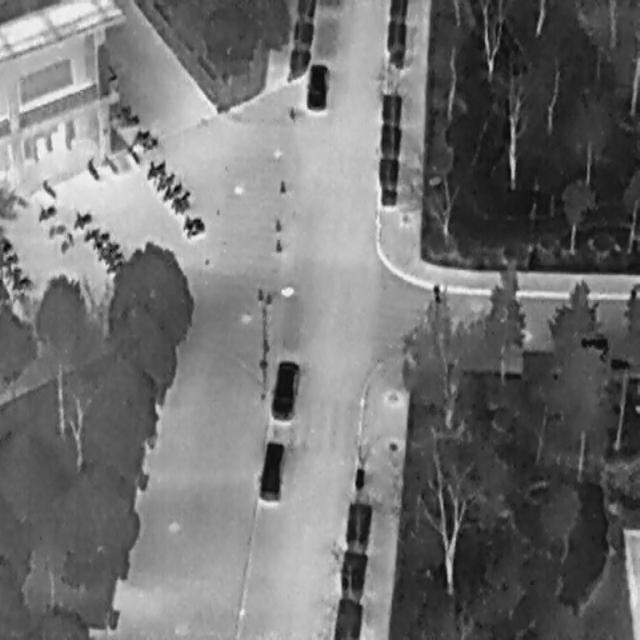Bicycle: (92, 232, 122, 266), (166, 184, 194, 216), (66, 202, 94, 234), (181, 214, 208, 244), (141, 151, 168, 180), (157, 174, 184, 202), (177, 205, 202, 234), (33, 197, 58, 225), (38, 172, 61, 202), (151, 166, 177, 192), (98, 148, 121, 176), (56, 228, 77, 258), (88, 225, 112, 251), (130, 120, 153, 146), (44, 216, 67, 242), (137, 130, 159, 155), (77, 221, 100, 244), (116, 110, 141, 131), (83, 154, 102, 181), (10, 270, 32, 290), (103, 246, 125, 266), (103, 257, 125, 275), (112, 101, 133, 119), (3, 248, 19, 266), (0, 235, 14, 254)
Car: (266, 355, 301, 424), (254, 435, 287, 505), (301, 59, 329, 115)
